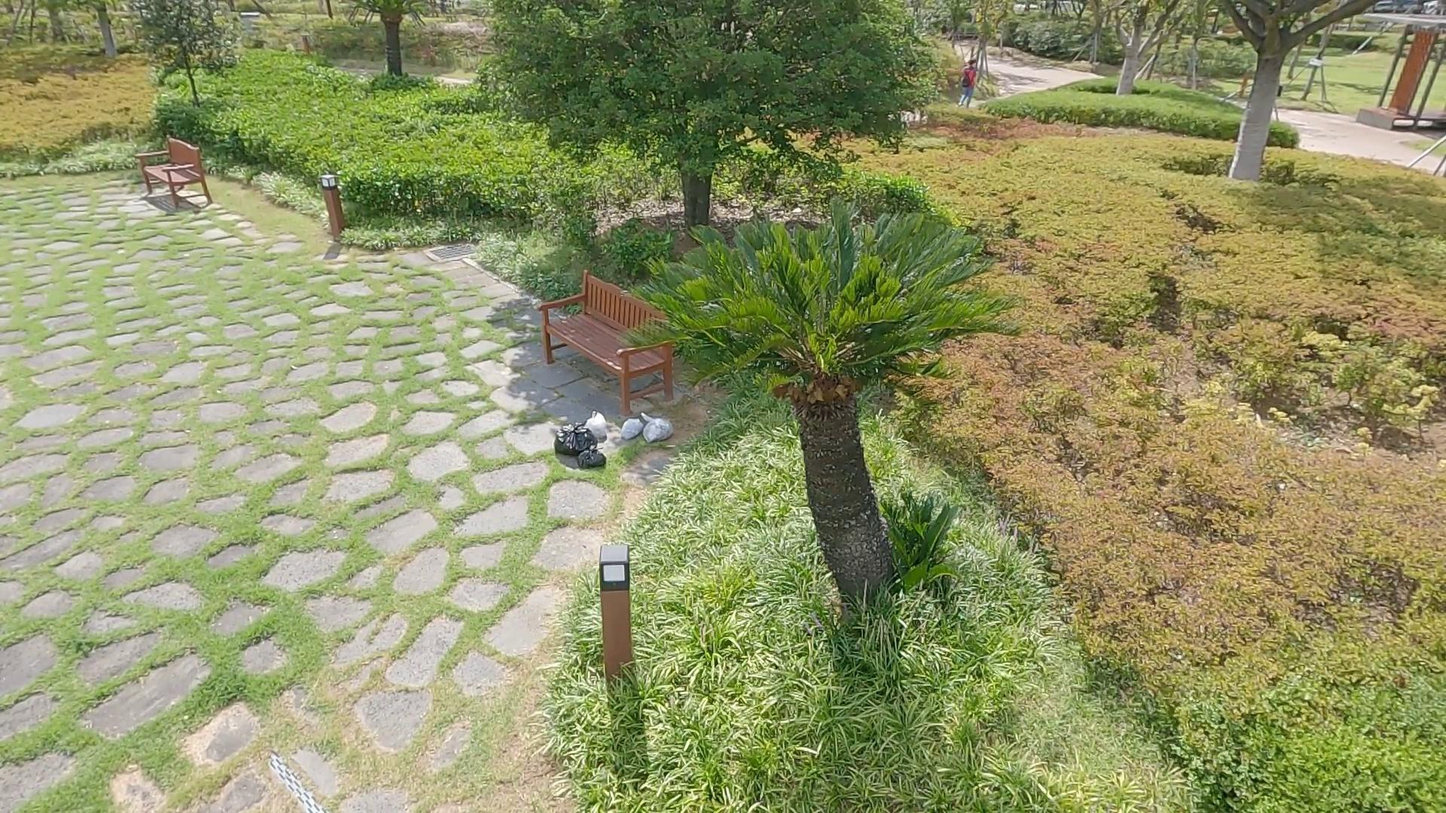trash: (553, 420, 599, 457), (641, 410, 676, 442), (583, 407, 608, 442), (576, 445, 607, 471), (620, 414, 646, 440)
